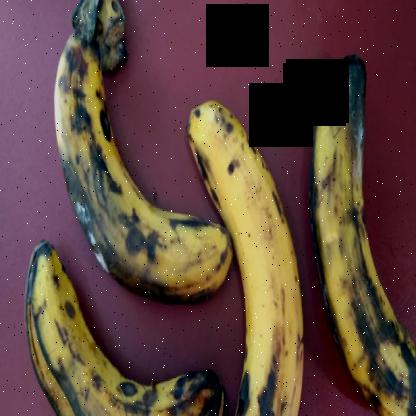overripe: (178, 87, 318, 416)
rotten: (51, 61, 230, 312), (296, 61, 415, 415), (24, 233, 223, 415)
